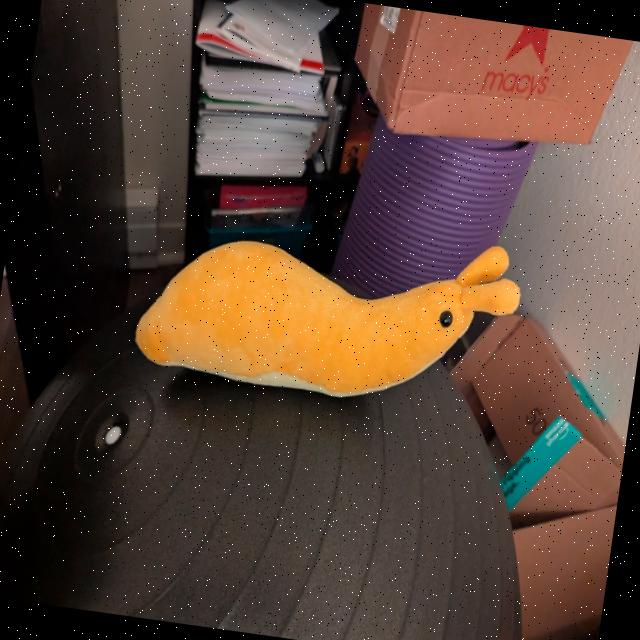banana-slug-toy: (127, 189, 536, 441)
